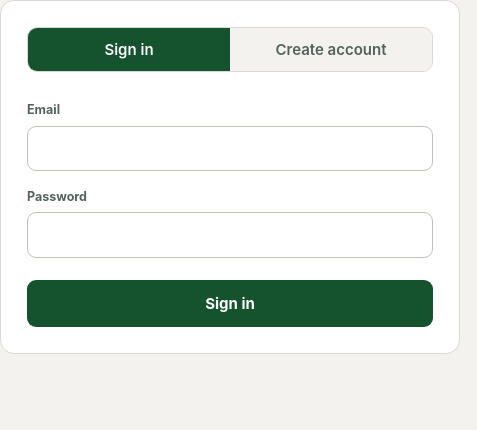
Test case: login form › surfaces the API message on rejection
Type "ada@corp.test" into the field labelled "Email". click: (230, 148)
box: x1=27 y1=126 x2=433 y2=171
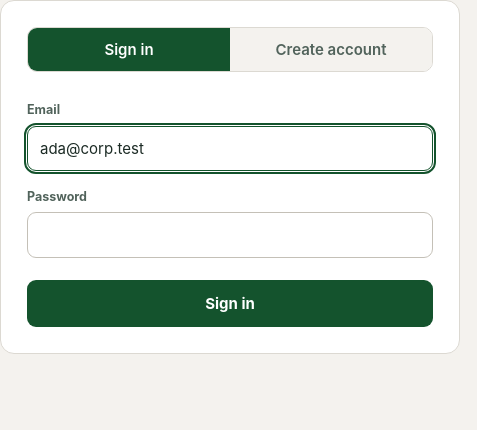
Type "wrong-password" into the password field labelled "Password". click: (230, 235)
box: x1=27 y1=212 x2=433 y2=258
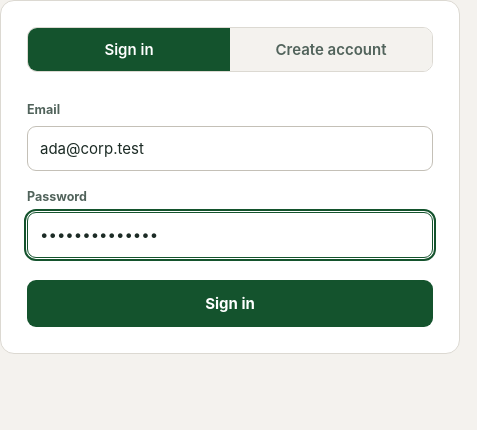
Click the button "Sign in". click: (230, 303)
box: x1=27 y1=280 x2=433 y2=327
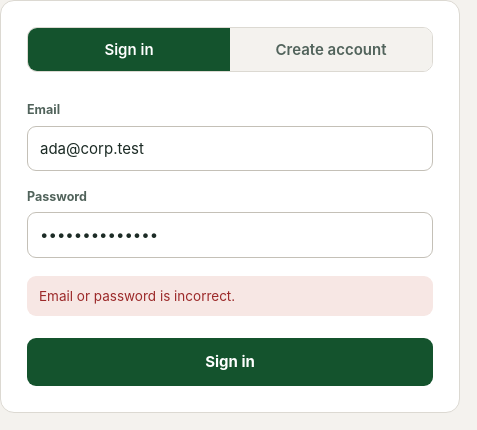
Expected: the message reads "Email or password is incorrect.", x1=39 y1=288 x2=235 y2=304
